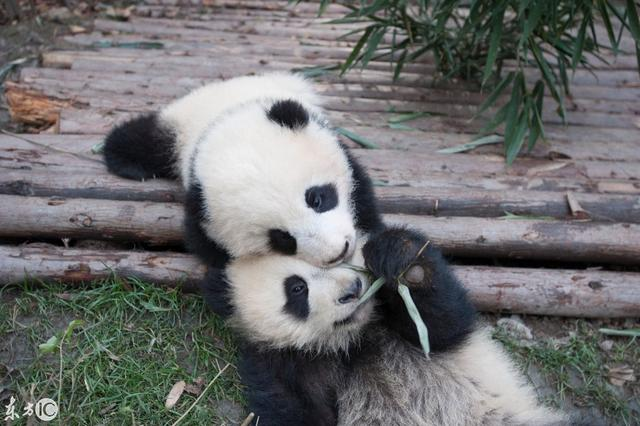panda: (189, 238, 589, 423), (108, 68, 394, 258)
